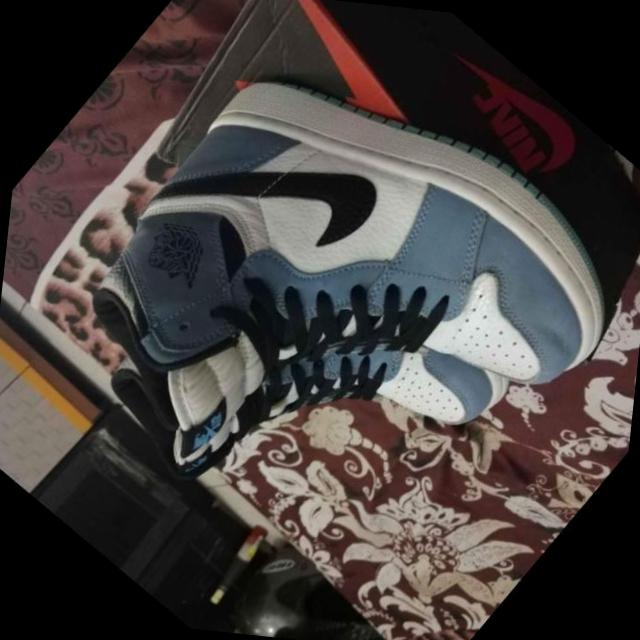nike_fake_jordan: (8, 0, 640, 640), (67, 165, 534, 626)
